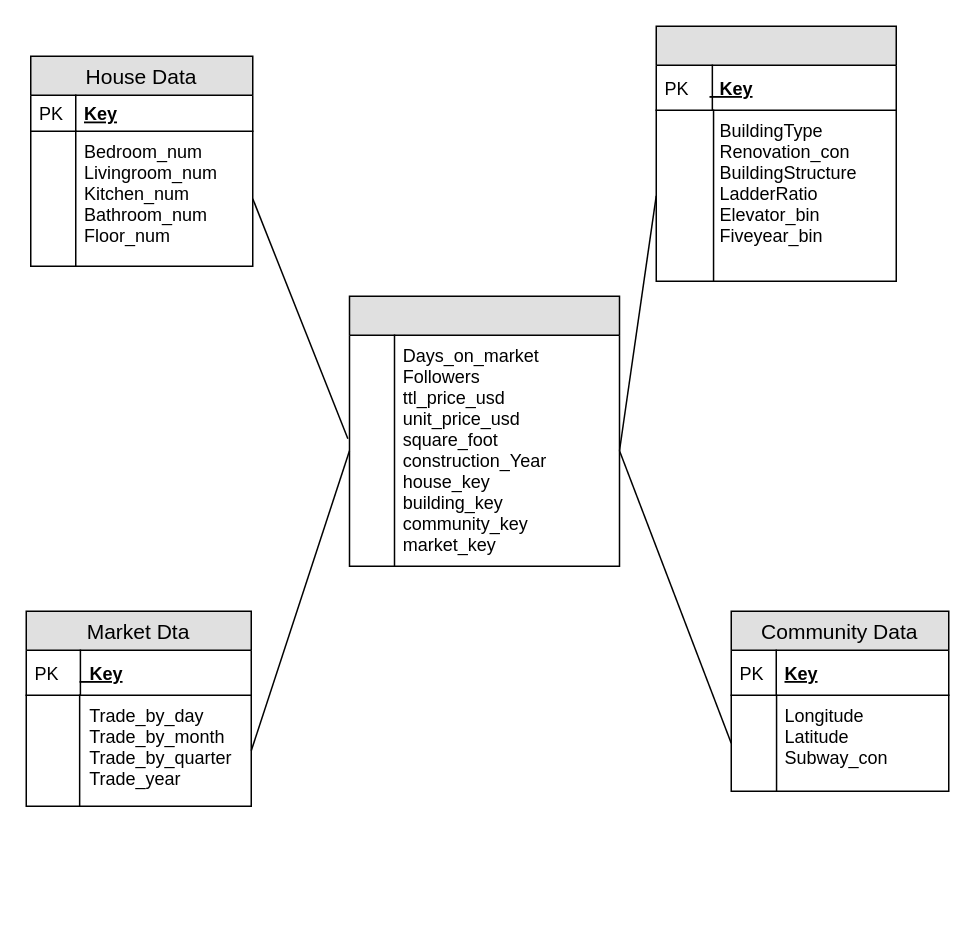
The diagram is 975 pixels wide and 947 high, and some of its shapes have lost their labels. The box of each missing label's shape, as (x1, y1, x2, y2) in pixels:
Building Data: (655, 25, 896, 281)
Facts Dta: (348, 295, 620, 566)
